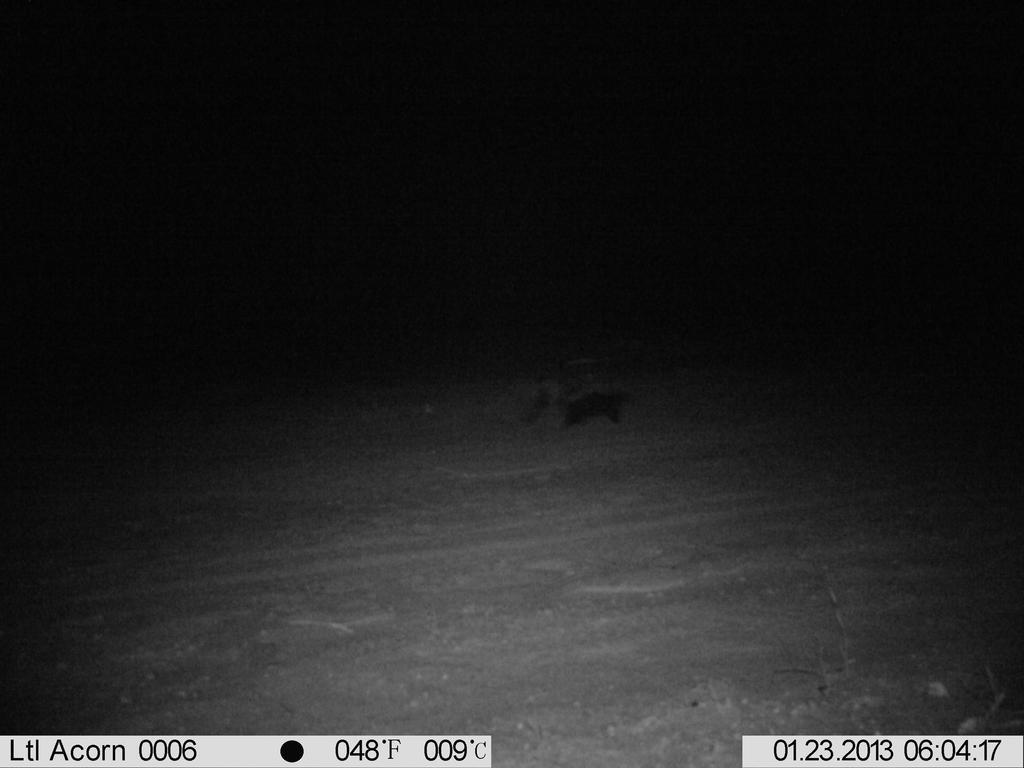skunk: (545, 357, 660, 442)
